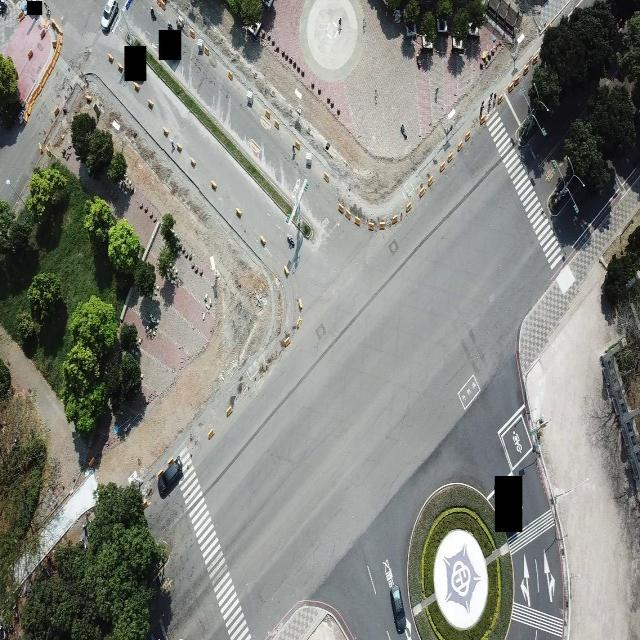bike: (284, 233, 295, 251)
car: (384, 577, 408, 638), (157, 455, 180, 495), (100, 0, 118, 32)
